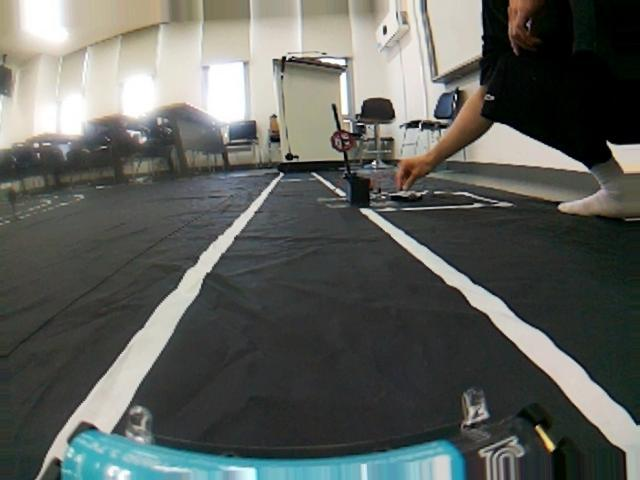sign_stop: (331, 129, 355, 154)
straight: (0, 191, 640, 480)
